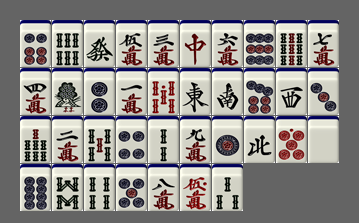0m: (180, 164, 211, 211)
0p: (276, 116, 307, 163)
0s: (148, 68, 179, 115)
1m: (116, 68, 147, 115)
1p: (212, 116, 243, 163)
1s: (52, 68, 83, 115)
1z: (180, 68, 211, 115)
2m: (52, 116, 83, 163)
2p: (84, 68, 115, 115)
2s: (148, 116, 179, 163)
2z: (212, 68, 243, 115)
3m: (148, 20, 179, 67)
3p: (308, 68, 339, 115)
3s: (212, 164, 243, 211)
3z: (276, 68, 307, 115)
4m: (20, 68, 51, 115)
4p: (116, 116, 147, 163)
4s: (84, 164, 115, 211)
4z: (244, 116, 275, 163)
5m: (116, 20, 147, 67)
5p: (116, 164, 147, 211)
5s: (84, 116, 115, 163)
5z: (308, 116, 339, 163)
6m: (212, 20, 243, 67)
6p: (20, 20, 51, 67)
6s: (52, 20, 83, 67)
6z: (84, 20, 115, 67)
7m: (308, 20, 339, 67)
7p: (244, 68, 275, 115)
7s: (20, 116, 51, 163)
7z: (180, 20, 211, 67)
8m: (148, 164, 179, 211)
8p: (20, 164, 51, 211)
8s: (52, 164, 83, 211)
9m: (180, 116, 211, 163)
9p: (244, 20, 275, 67)
9s: (276, 20, 307, 67)
